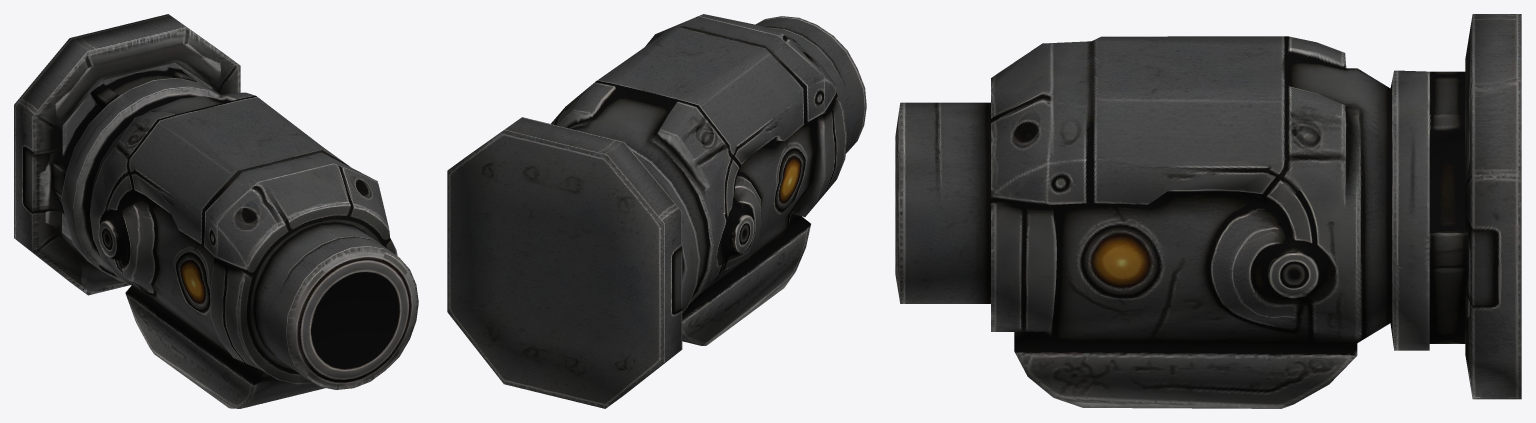
The model's file is cold-iron-v2-weapon-a-cannon.glb.
The picture shows the model from 3 angles, left to right: view 1: azimuth 30°, elevation 25°; view 2: azimuth 150°, elevation 25°; view 3: azimuth 270°, elevation 25°; orthographic projection. The views are drawn at different scales.
Visible parts, largest first — view 1: tripo_node_e527e5c4-7067-4031-9d37-61cc648dbf5f; view 2: tripo_node_e527e5c4-7067-4031-9d37-61cc648dbf5f; view 3: tripo_node_e527e5c4-7067-4031-9d37-61cc648dbf5f.
Part boxes in pixels (left/top/right/bottom): tripo_node_e527e5c4-7067-4031-9d37-61cc648dbf5f: left=14, top=14, right=418, bottom=408; tripo_node_e527e5c4-7067-4031-9d37-61cc648dbf5f: left=447, top=14, right=866, bottom=408; tripo_node_e527e5c4-7067-4031-9d37-61cc648dbf5f: left=895, top=14, right=1521, bottom=408.
Bounding box in the file's own units: 0.5059 × 0.5762 × 0.998.
1 material, 1 textured.
